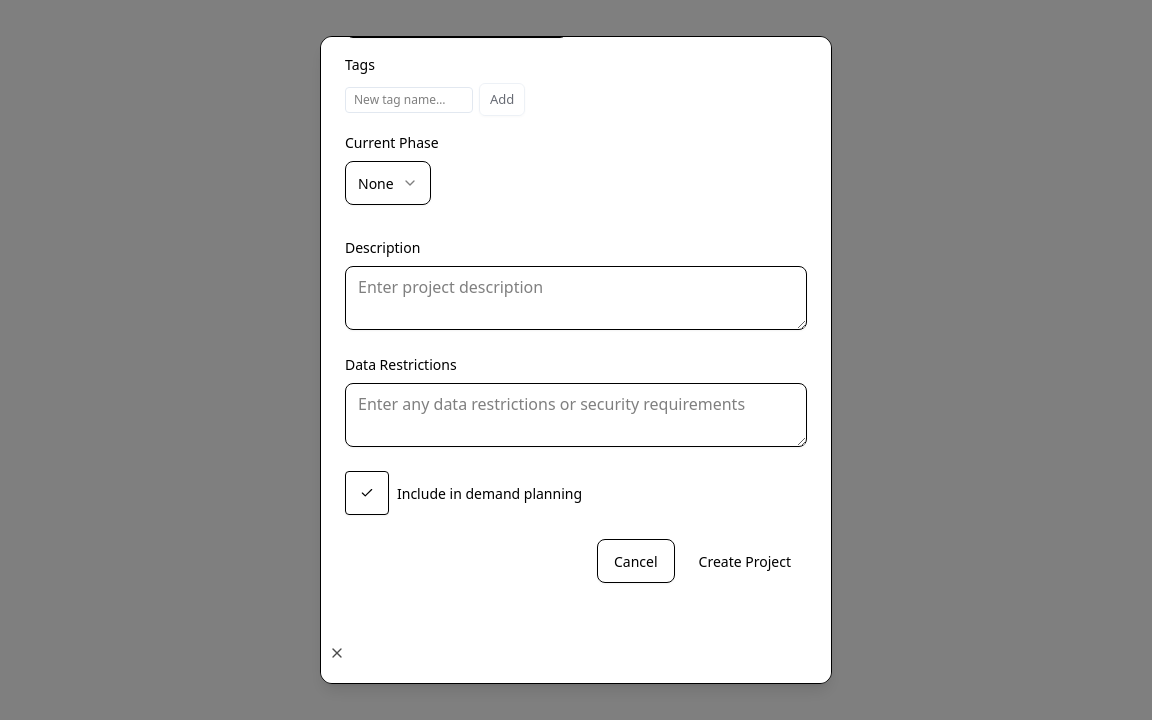
Test: ProjectModal › Form Validation › clears errors when user starts typing
The width and height of the screenshot is (1152, 720).
(page scrolled)
Click the button "Create Project".
click(745, 561)  # box [683,539,807,583]
(page scrolled)
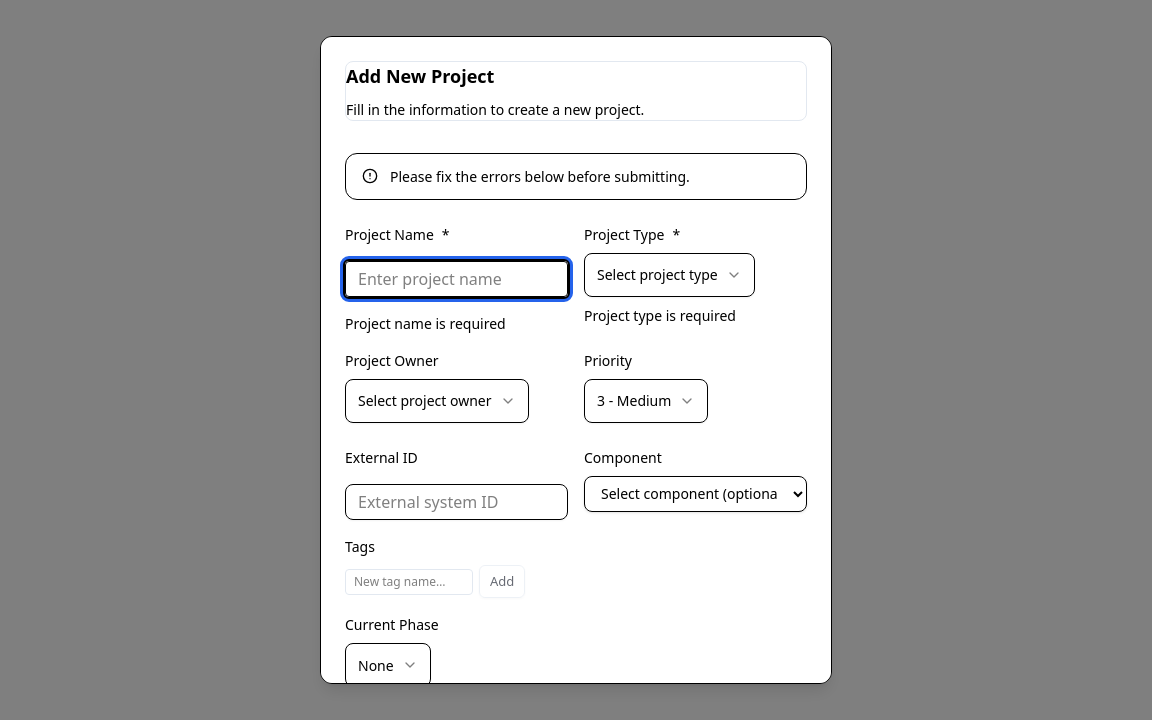
Expected: the text "Project name is required" is shown, [345,314,506,333]
Type "New Project" into the field labelled "Project Name *".
click(456, 279); type("New Project")  # box [345,261,568,297]
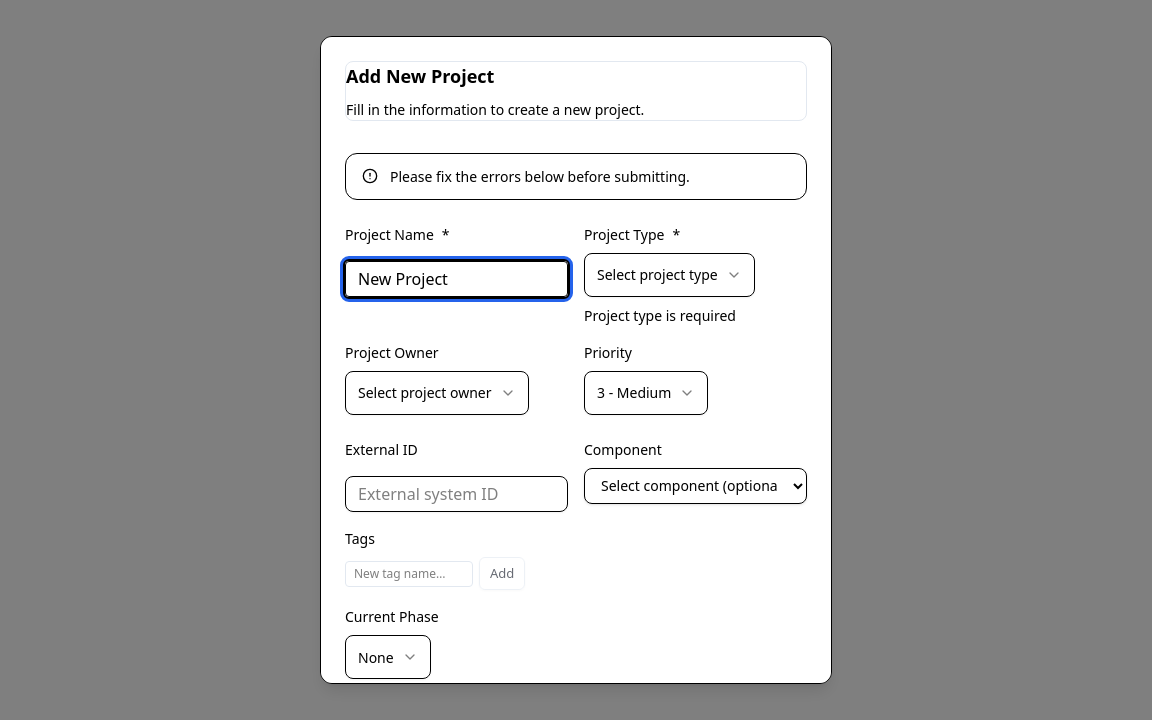
Expected: the text "Project name is required" is gone
